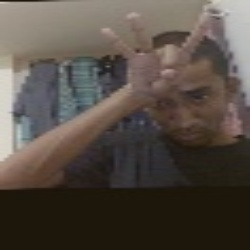hand: (91, 9, 222, 111)
